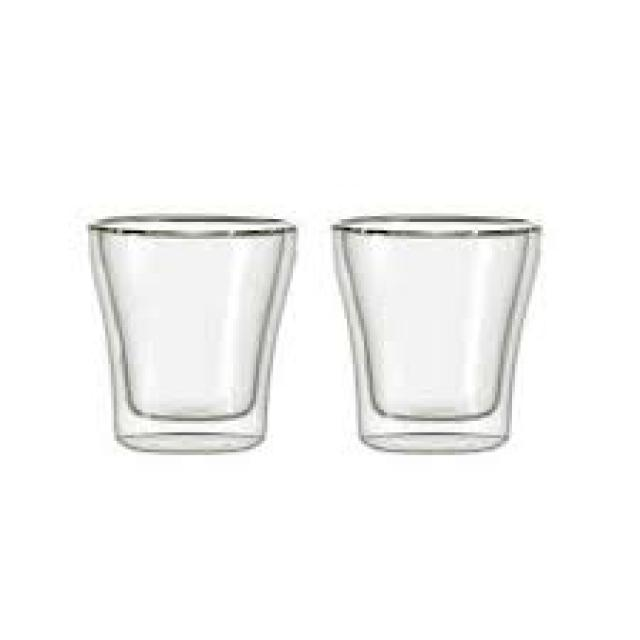glass: (88, 213, 296, 449), (330, 216, 538, 449)
